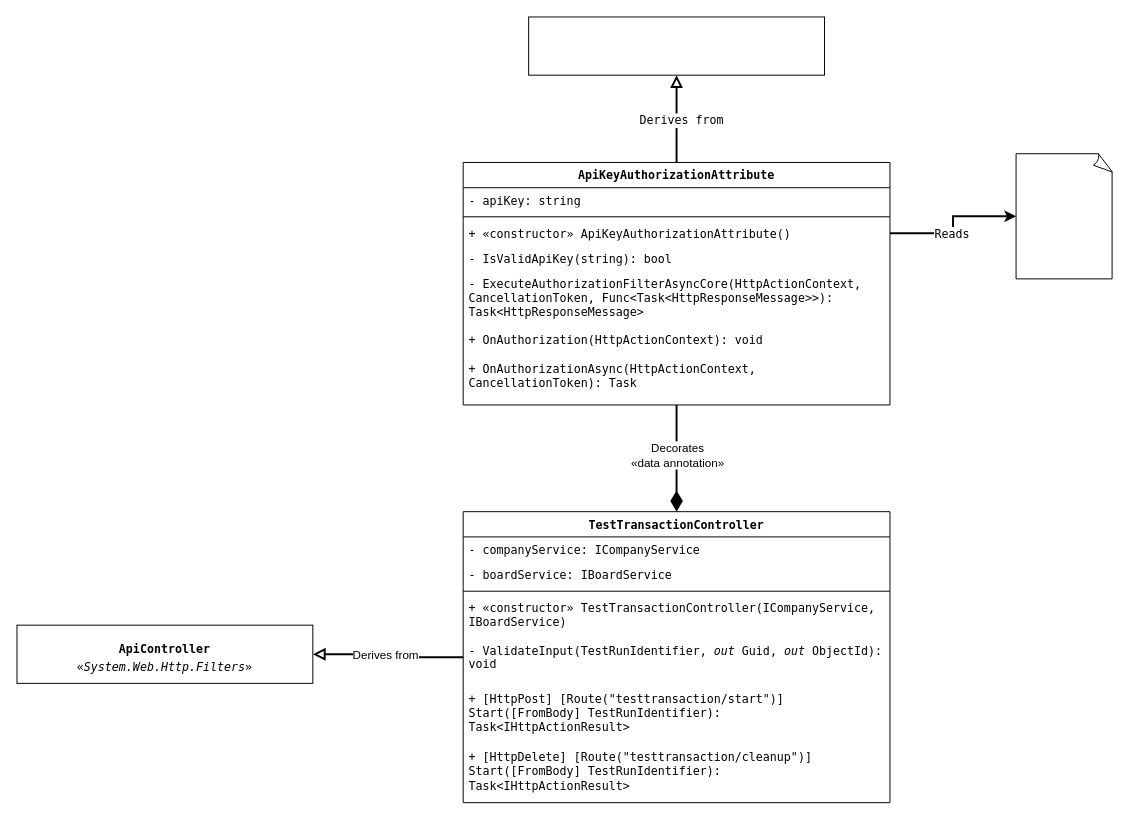
Some shapes in this 1130 by 823 pixel diagram are drawn without their labels. The centre of each missing label's shape, as x and y in pixels:
"AppSettings" belongs at (1064,216).
"AuthorizationFilterAttribute « System.Web.HTTP »" belongs at (676,45).
